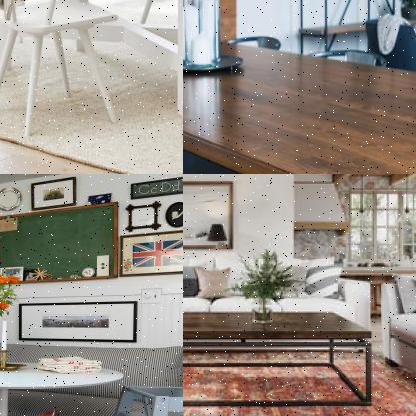table: (183, 21, 415, 173), (0, 0, 182, 122), (183, 306, 377, 413)
